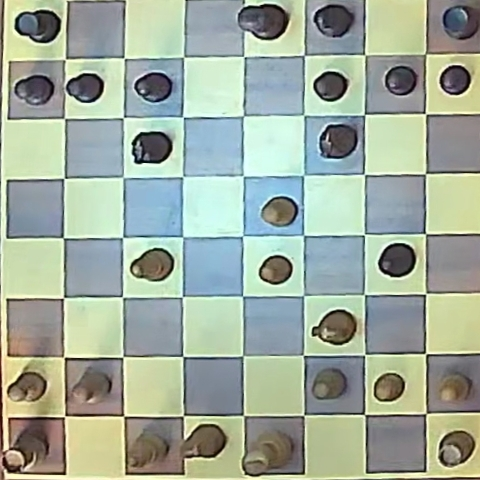black-bishop: (378, 243, 416, 279), (313, 4, 353, 38)
black-king: (238, 4, 287, 40)
black-knight: (318, 124, 357, 158), (131, 131, 171, 164)
black-pawn: (14, 74, 55, 105), (134, 72, 173, 102), (66, 72, 104, 102), (313, 71, 348, 101), (384, 65, 417, 95), (439, 65, 471, 95)
black-rook: (14, 9, 60, 44), (442, 5, 479, 39)
white-bishop: (130, 249, 173, 282), (130, 434, 168, 466)
white-king: (242, 430, 293, 476)
white-knight: (312, 310, 357, 346), (180, 425, 226, 459)
white-pawn: (71, 368, 111, 404), (7, 372, 47, 403), (261, 196, 297, 226), (312, 369, 346, 400), (259, 256, 293, 285), (438, 374, 470, 403), (373, 373, 405, 402)
white-rook: (2, 428, 48, 473), (438, 431, 474, 468)
